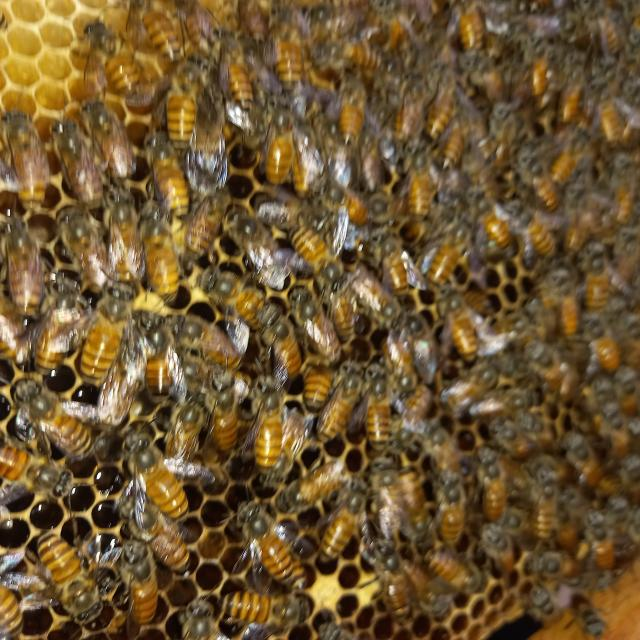honeybee: (35, 536, 105, 630), (15, 379, 94, 462), (232, 501, 306, 588), (119, 494, 194, 574), (134, 201, 189, 301), (129, 437, 195, 520), (86, 284, 133, 387), (144, 131, 198, 219), (133, 310, 182, 404), (84, 93, 136, 181), (36, 286, 84, 380), (56, 205, 105, 296), (6, 108, 48, 214), (85, 22, 143, 98), (310, 364, 364, 444), (0, 448, 86, 498), (203, 266, 270, 330), (55, 117, 104, 204), (222, 588, 314, 634), (167, 56, 210, 149), (0, 222, 39, 319), (429, 213, 476, 291), (182, 314, 253, 365), (116, 544, 160, 626), (287, 216, 341, 282), (262, 305, 304, 386), (319, 490, 363, 566), (294, 292, 341, 362), (371, 544, 409, 628), (252, 374, 283, 476), (188, 188, 229, 264), (274, 464, 343, 509), (420, 543, 480, 594), (312, 177, 374, 224), (470, 189, 517, 251), (439, 290, 478, 364), (374, 230, 412, 304), (167, 388, 202, 467), (206, 371, 240, 451), (220, 36, 255, 113), (551, 127, 595, 188), (396, 386, 435, 454), (310, 42, 396, 72), (362, 363, 390, 453), (263, 105, 294, 186), (424, 74, 459, 144), (143, 0, 180, 63), (436, 470, 466, 547), (275, 18, 304, 96), (351, 275, 399, 322), (586, 506, 618, 576), (372, 469, 406, 534), (557, 56, 589, 124), (469, 53, 507, 110), (563, 434, 603, 488), (560, 193, 594, 254), (439, 368, 490, 408), (0, 297, 30, 363), (338, 72, 364, 147), (526, 153, 563, 205), (382, 336, 418, 389), (300, 353, 332, 412), (478, 456, 506, 523), (395, 75, 422, 144), (568, 594, 610, 637), (594, 1, 628, 54), (527, 344, 565, 391), (326, 288, 359, 342), (588, 320, 622, 372), (294, 116, 315, 200), (451, 0, 484, 52), (521, 214, 560, 258), (0, 569, 24, 640), (481, 524, 515, 574), (584, 246, 608, 316), (181, 600, 222, 640), (530, 548, 581, 580), (407, 152, 431, 218), (440, 114, 467, 172), (379, 0, 414, 44), (599, 86, 623, 150), (490, 419, 531, 456), (604, 404, 632, 458), (180, 0, 210, 50), (468, 395, 530, 419), (432, 431, 462, 479), (238, 0, 268, 44), (527, 587, 562, 624), (535, 485, 556, 546), (616, 176, 640, 228), (530, 40, 553, 94), (555, 285, 578, 338), (614, 371, 640, 416), (522, 414, 554, 450)
